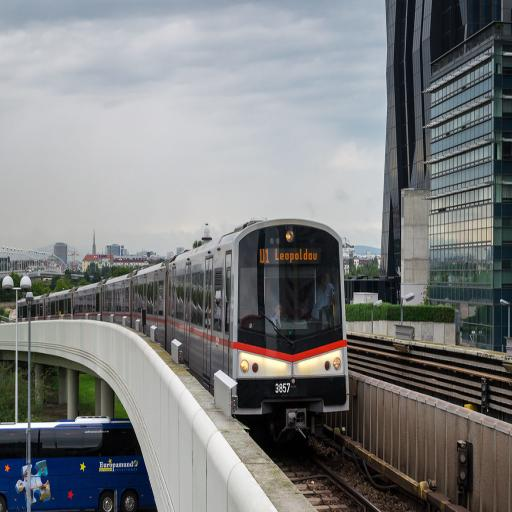V-Wagen: (14, 210, 350, 422)
